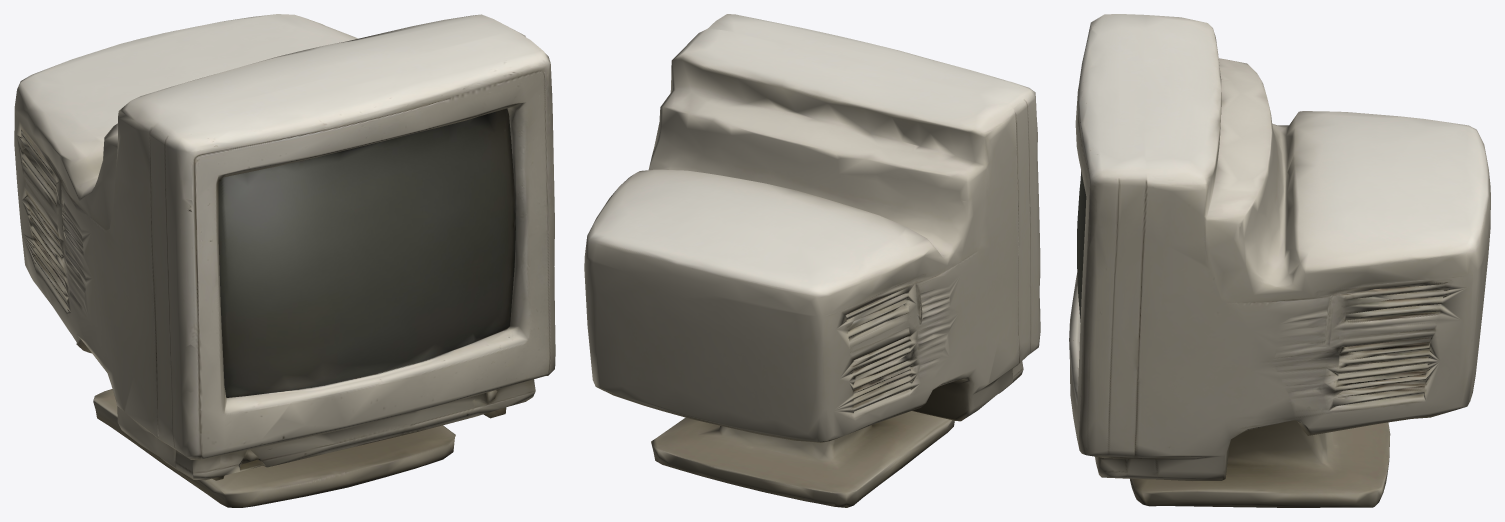
Rendered from crt_monitor.fbx.
3 renders of one model, left to right at view 1: azimuth 30°, elevation 25°; view 2: azimuth 150°, elevation 25°; view 3: azimuth 270°, elevation 25°, orthographic. The views are drawn at different scales.
Parts seen in each view (by area): view 1: crt_monitor; view 2: crt_monitor; view 3: crt_monitor.
Part boxes in pixels (x1=…): crt_monitor: x1=14, y1=14, x2=555, y2=507; crt_monitor: x1=584, y1=14, x2=1040, y2=507; crt_monitor: x1=1069, y1=14, x2=1490, y2=507.
Bounding box in the file's own units: 0.3893 × 0.4 × 0.4157.
1 material, 1 textured.
